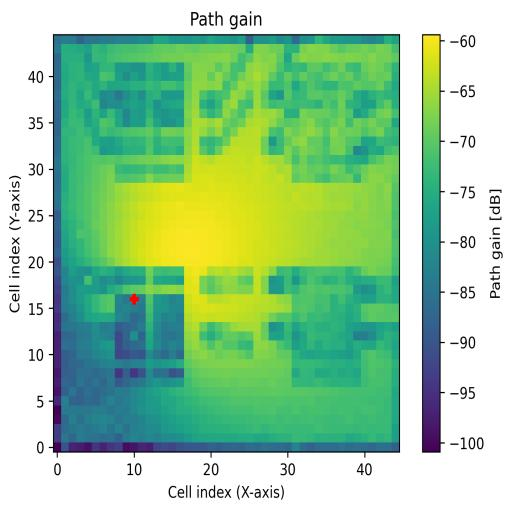Concrete: (292, 63, 370, 183)
Glass: (114, 62, 184, 182)
Metal: (291, 266, 361, 388)
Wood: (115, 266, 184, 386)
